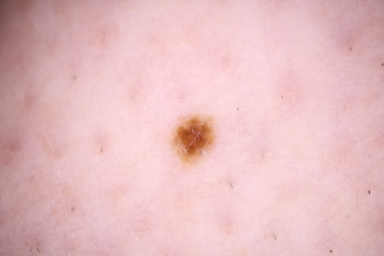melanoma: (177, 118, 211, 159)
